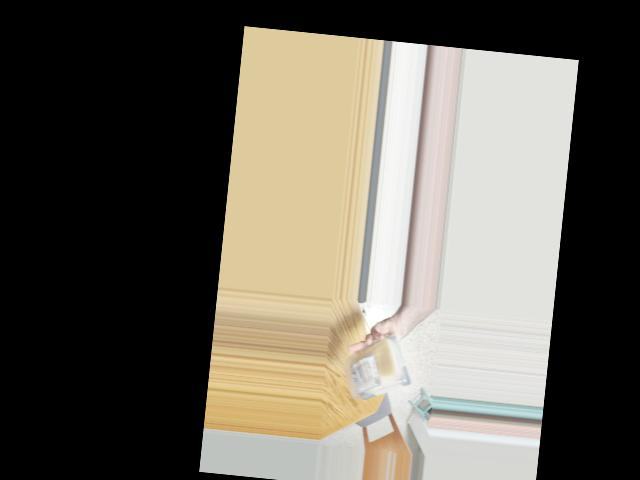cheese: (345, 346, 413, 404)
